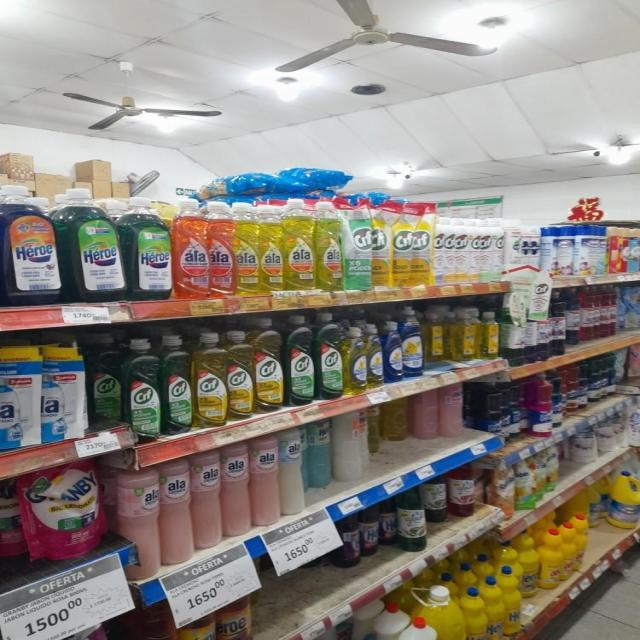ala_conc_amarillo: (284, 197, 314, 291), (316, 199, 343, 291), (235, 202, 259, 296), (260, 201, 283, 293)
ala_conc_rojo: (173, 200, 209, 300), (209, 201, 234, 297)
ala_crem_blanco: (280, 427, 304, 517)
ala_crem_rosado: (116, 466, 160, 579), (161, 457, 191, 567), (192, 449, 220, 551), (222, 442, 250, 540), (250, 435, 278, 528), (440, 382, 464, 440)
cif_conc_bot_amarilla: (193, 332, 226, 428), (254, 317, 283, 413), (227, 330, 253, 421)
cif_conc_botella_verde: (125, 336, 160, 440), (89, 334, 122, 429), (161, 334, 191, 434), (285, 314, 314, 406), (316, 312, 342, 400)
heroe: (306, 419, 331, 494)
magistral_con_amarillo: (344, 326, 366, 394), (367, 322, 383, 388)
magistral_con_azul: (403, 310, 424, 378), (384, 321, 402, 383)
